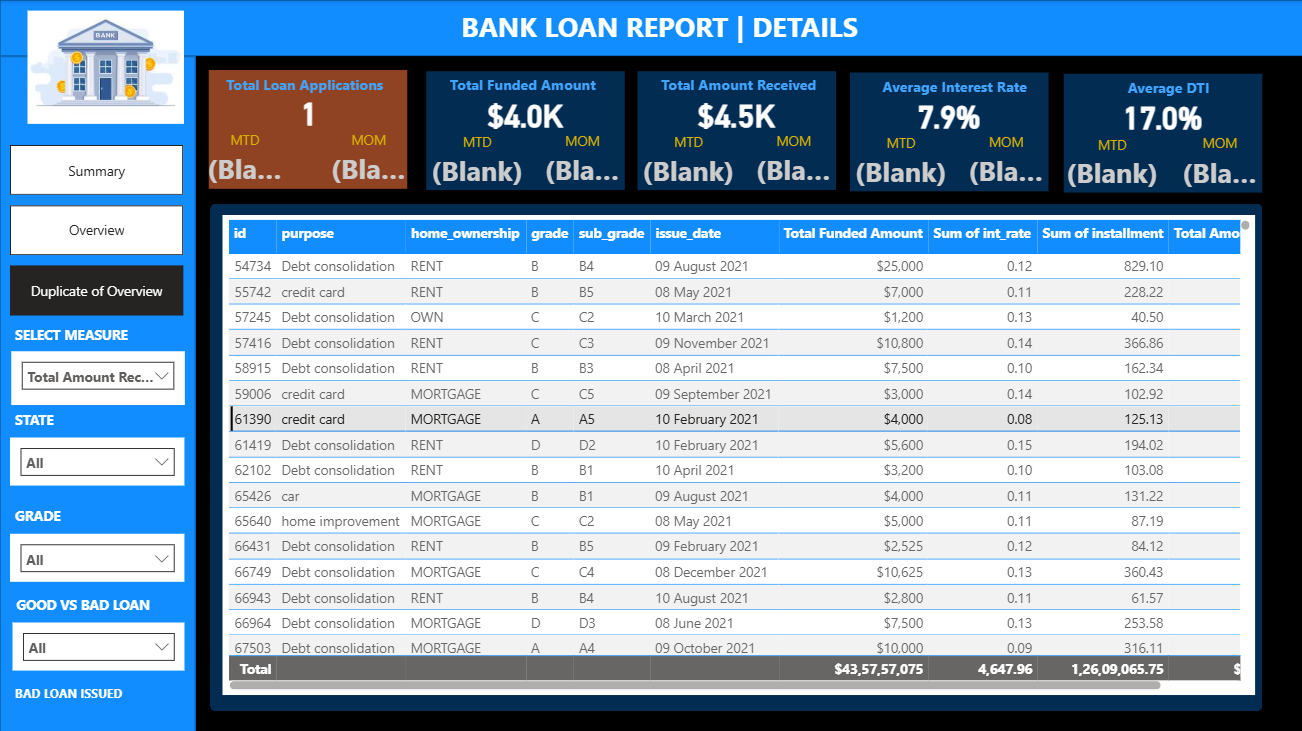

What the dashboard file says about the page in this screenshot:
{"tool":"powerbi","page":{"name":"Duplicate of Overview","canvas":[1280,720],"ordinal":2},"visuals":[{"type":"shape","box":[0,0,1280.3,55],"z":0},{"type":"shape","box":[205.8,68.6,194.9,116.6],"z":0,"group":"g1"},{"type":"shape","box":[417.9,70.2,194.9,116.6],"z":0,"group":"g2"},{"type":"shape","box":[625.9,70.3,194.9,116.6],"z":0,"group":"g3"},{"type":"shape","box":[833.9,71.5,194.9,116.6],"z":0,"group":"g4"},{"type":"shape","box":[1044.8,72.7,194.9,116.6],"z":0,"group":"g5"},{"type":"shape","box":[0,54.9,192,665.5],"z":1000},{"type":"card","fields":{"Values":["bank_loan_data.Total Loan Applications"]},"box":[207.5,80.7,191.8,59.1],"z":1000,"group":"g1"},{"type":"card","fields":{"Values":["bank_loan_data.Total Funded Amount"]},"box":[419.1,82.2,191.8,59.1],"z":1000,"group":"g2"},{"type":"card","fields":{"Values":["bank_loan_data.Total Amount Recieved"]},"box":[627.1,82.3,191.8,59.1],"z":1000,"group":"g3"},{"type":"card","fields":{"Values":["bank_loan_data.Avg Interest Rate"]},"box":[835.1,83.5,191.8,59.1],"z":1000,"group":"g4"},{"type":"card","fields":{"Values":["bank_loan_data.Average DTI"]},"box":[1046,84.7,191.8,59.1],"z":1000,"group":"g5"},{"type":"textbox","box":[218.2,68.6,168.8,28.8],"z":2000,"group":"g1"},{"type":"textbox","box":[436.1,68.7,168.9,29],"z":2000,"group":"g2"},{"type":"textbox","box":[644.1,68.8,168.9,29],"z":2000,"group":"g3"},{"type":"textbox","box":[852.1,70,168.9,29],"z":2000,"group":"g4"},{"type":"textbox","box":[1063,71.2,168.9,29],"z":2000,"group":"g5"},{"type":"shape","box":[206.1,200,1033.1,498.2],"z":2000},{"type":"textbox","box":[447.3,2.7,447.3,49.4],"z":3000},{"type":"card","title":"MTD","fields":{"Values":["bank_loan_data.MTD Loan Applications"]},"box":[191.8,127.7,97.7,60.3],"z":3000,"group":"g1"},{"type":"card","title":"MTD","fields":{"Values":["bank_loan_data.MTD Funded Amount"]},"box":[415.5,130.5,105,59.1],"z":3000,"group":"g2"},{"type":"card","title":"MTD","fields":{"Values":["bank_loan_data.MTD Total Amount Recieved"]},"box":[623.5,130.6,105,59.1],"z":3000,"group":"g3"},{"type":"card","title":"MTD","fields":{"Values":["bank_loan_data.MTD Avg Interest Rate"]},"box":[831.5,131.8,105,59.1],"z":3000,"group":"g4"},{"type":"card","title":"MTD","fields":{"Values":["bank_loan_data.MTD Average DTI"]},"box":[1039.5,133,105,59.1],"z":3000,"group":"g5"},{"type":"group","id":"g1","title":"Group 1","box":[191.8,68.6,219.6,119.4],"z":4000},{"type":"card","title":"MOM","fields":{"Values":["bank_loan_data.MOM Loan Applications"]},"box":[313.7,127.7,97.7,60.3],"z":4000,"group":"g1"},{"type":"card","title":"MOM","fields":{"Values":["bank_loan_data.MOM Total Funded Amount"]},"box":[521.7,129.3,97.7,60.3],"z":4000,"group":"g2"},{"type":"card","title":"MOM","fields":{"Values":["bank_loan_data.MOM Total Amount Recieved"]},"box":[729.7,129.4,97.7,60.3],"z":4000,"group":"g3"},{"type":"card","title":"MOM","fields":{"Values":["bank_loan_data.MOM Avg Interest Rate"]},"box":[937.7,130.6,97.7,60.3],"z":4000,"group":"g4"},{"type":"card","title":"MOM","fields":{"Values":["bank_loan_data.MOM Average DTI"]},"box":[1148.6,131.8,97.7,60.3],"z":4000,"group":"g5"},{"type":"group","id":"g2","title":"Group 1","box":[415.5,68.7,203.9,120.9],"z":5000},{"type":"group","id":"g3","title":"Group 1","box":[623.5,68.8,203.9,120.6],"z":6000},{"type":"group","id":"g4","title":"Group 1","box":[831.5,70,203.9,120.6],"z":7000},{"type":"group","id":"g5","title":"Group 1","box":[1039.5,71.2,206.8,120.9],"z":8000},{"type":"slicer","fields":{"Values":["bank_loan_data.address_state"]},"box":[9.7,429.5,171.3,47.1],"z":9000},{"type":"textbox","box":[9.7,398.1,138.7,31.4],"z":10000},{"type":"slicer","fields":{"Values":["bank_loan_data.grade"]},"box":[9.7,523.6,171.3,47.1],"z":11000},{"type":"textbox","box":[9.7,492.2,138.7,31.4],"z":12000},{"type":"textbox","box":[11,579.1,170.6,31.9],"z":13000},{"type":"textbox","box":[9.7,313.7,138.7,31.4],"z":14000},{"type":"textbox","box":[9.7,666,138.7,31.4],"z":15000},{"type":"slicer","fields":{"Values":["bank_loan_data.Good vs Bad Loan"]},"box":[12.1,610.5,168.9,47.1],"z":16000},{"type":"slicer","fields":{"Values":["Select Measure.Select Measure"]},"box":[10.9,345,170.1,53.1],"z":18000},{"type":"tableEx","fields":{"Values":["bank_loan_data.id","bank_loan_data.purpose","bank_loan_data.home_ownership","bank_loan_data.grade","bank_loan_data.sub_grade","bank_loan_data.issue_date","bank_loan_data.Total Funded Amount","Sum(bank_loan_data.int_rate)","Sum(bank_loan_data.installment)","bank_loan_data.Total Amount Recieved"]},"box":[218.4,211,1013.5,471.2],"z":18001},{"type":"pageNavigator","box":[9.8,142.3,170.6,169.3],"z":18002},{"type":"image","box":[27,0,153.4,132.5],"z":18003}]}

Visuals, with their boxes on the page's 1280x720 design canvas (x1, y1, x2, y2). These are canvas units, not pixel positions in the 1302x731 screenshot, which may show the page scaled, cropped or inside an application window:
shape: left=0, top=0, right=1280, bottom=55
shape: left=206, top=69, right=401, bottom=185
shape: left=418, top=70, right=613, bottom=187
shape: left=626, top=70, right=821, bottom=187
shape: left=834, top=72, right=1029, bottom=188
shape: left=1045, top=73, right=1240, bottom=189
shape: left=0, top=55, right=192, bottom=720
card - bank_loan_data.Total Loan Applications: left=208, top=81, right=399, bottom=140
card - bank_loan_data.Total Funded Amount: left=419, top=82, right=611, bottom=141
card - bank_loan_data.Total Amount Recieved: left=627, top=82, right=819, bottom=141
card - bank_loan_data.Avg Interest Rate: left=835, top=84, right=1027, bottom=143
card - bank_loan_data.Average DTI: left=1046, top=85, right=1238, bottom=144
textbox: left=218, top=69, right=387, bottom=97
textbox: left=436, top=69, right=605, bottom=98
textbox: left=644, top=69, right=813, bottom=98
textbox: left=852, top=70, right=1021, bottom=99
textbox: left=1063, top=71, right=1232, bottom=100
shape: left=206, top=200, right=1239, bottom=698
textbox: left=447, top=3, right=895, bottom=52
"MTD" card: left=192, top=128, right=290, bottom=188
"MTD" card: left=416, top=130, right=520, bottom=190
"MTD" card: left=624, top=131, right=728, bottom=190
"MTD" card: left=832, top=132, right=936, bottom=191
"MTD" card: left=1040, top=133, right=1144, bottom=192
"Group 1" group: left=192, top=69, right=411, bottom=188
"MOM" card: left=314, top=128, right=411, bottom=188
"MOM" card: left=522, top=129, right=619, bottom=190
"MOM" card: left=730, top=129, right=827, bottom=190
"MOM" card: left=938, top=131, right=1035, bottom=191
"MOM" card: left=1149, top=132, right=1246, bottom=192
"Group 1" group: left=416, top=69, right=619, bottom=190
"Group 1" group: left=624, top=69, right=827, bottom=189
"Group 1" group: left=832, top=70, right=1035, bottom=191
"Group 1" group: left=1040, top=71, right=1246, bottom=192
slicer - bank_loan_data.address_state: left=10, top=430, right=181, bottom=477
textbox: left=10, top=398, right=148, bottom=430
slicer - bank_loan_data.grade: left=10, top=524, right=181, bottom=571
textbox: left=10, top=492, right=148, bottom=524
textbox: left=11, top=579, right=182, bottom=611
textbox: left=10, top=314, right=148, bottom=345
textbox: left=10, top=666, right=148, bottom=697
slicer - bank_loan_data.Good vs Bad Loan: left=12, top=610, right=181, bottom=658
slicer - Select Measure.Select Measure: left=11, top=345, right=181, bottom=398
tableEx - bank_loan_data.id x bank_loan_data.purpose: left=218, top=211, right=1232, bottom=682
pageNavigator: left=10, top=142, right=180, bottom=312
image: left=27, top=0, right=180, bottom=132
